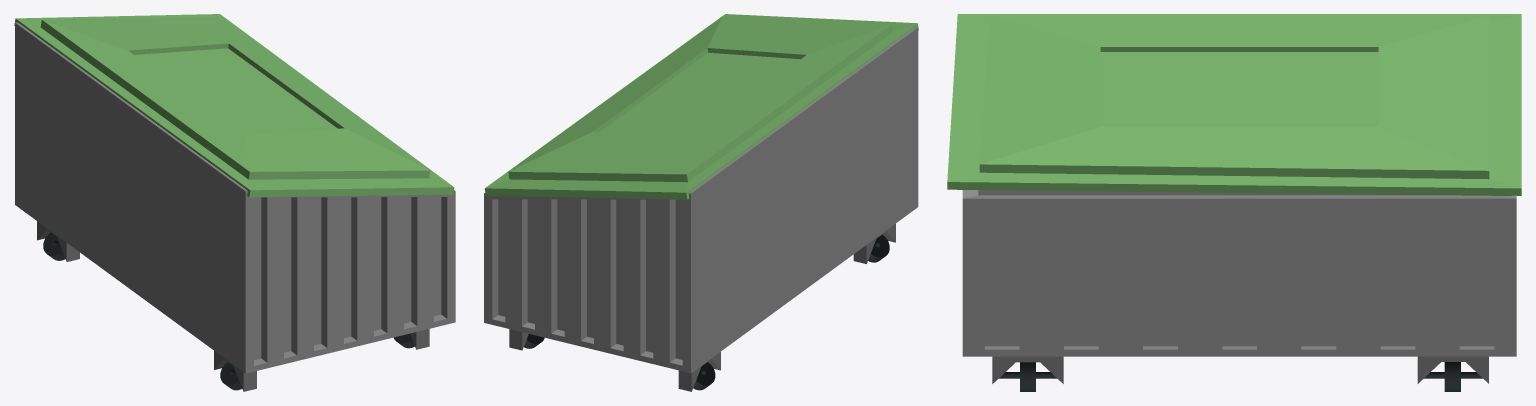
The model's file is Dumpster.glb.
The picture shows the model from 3 angles, left to right: view 1: azimuth 30°, elevation 25°; view 2: azimuth 150°, elevation 25°; view 3: azimuth 270°, elevation 25°; orthographic projection. The views are drawn at different scales.
Parts seen in each view (by area): view 1: Dumpster; view 2: Dumpster; view 3: Dumpster.
Part boxes in pixels (<box>): Dumpster: <box>14,14,455,391</box>; Dumpster: <box>484,14,918,391</box>; Dumpster: <box>947,14,1521,391</box>.
Bounding box in the file's own units: 3.1 × 3.21 × 6.11.
